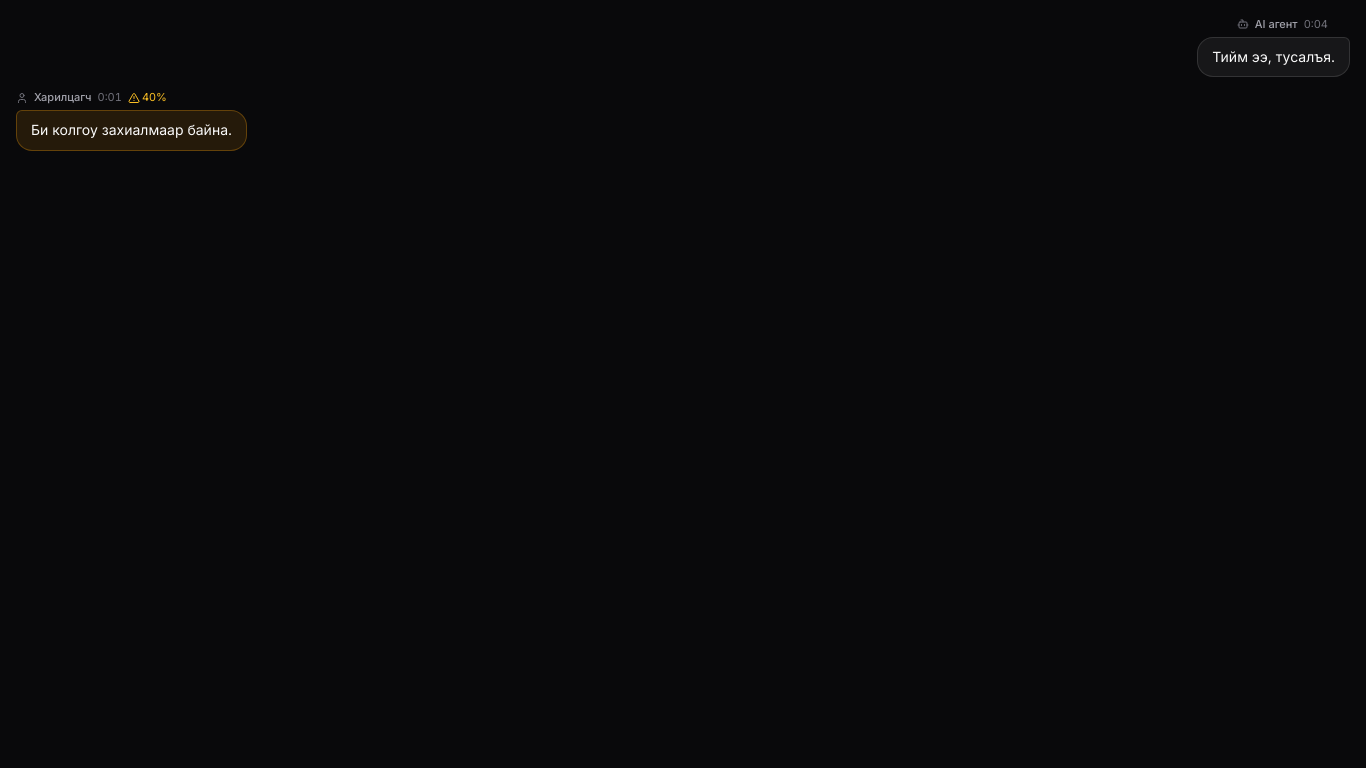
Scenario: Transcript › opens the correction dialog with the clicked word
Click the button "колгоу".
click(75, 130)  # box [51,119,99,142]
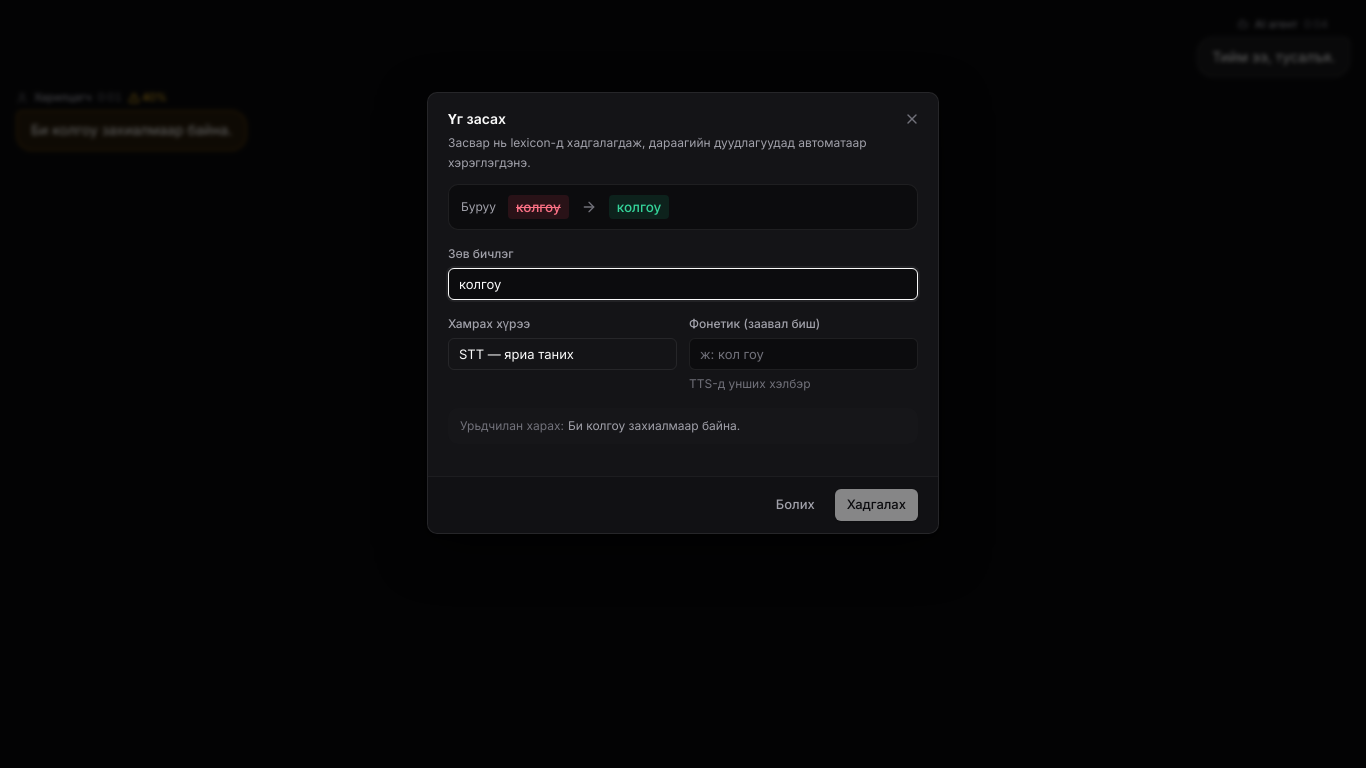
Now the heading "Үг засах" is shown, box [448,110,506,127]
Now the text with test id "wrong-word" reads "колгоу", box [516,199,561,215]
Now the field labelled "Зөв бичлэг" holds "колгоу", box [448,268,918,300]
